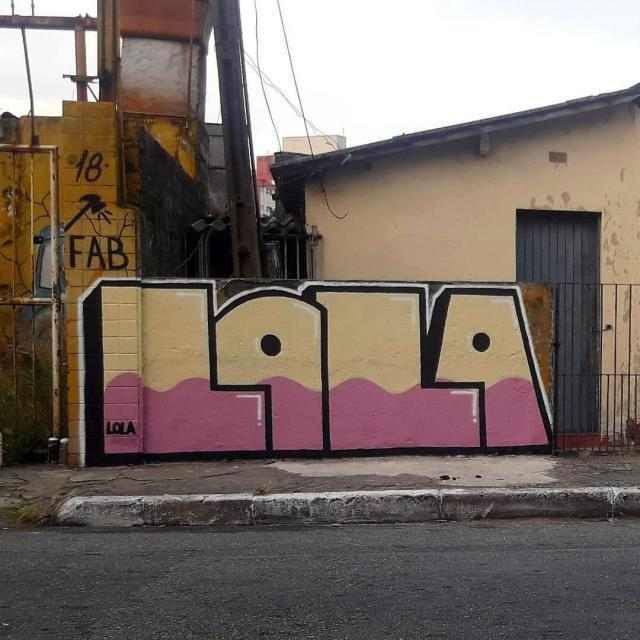-: (74, 281, 554, 458), (69, 230, 129, 272)
